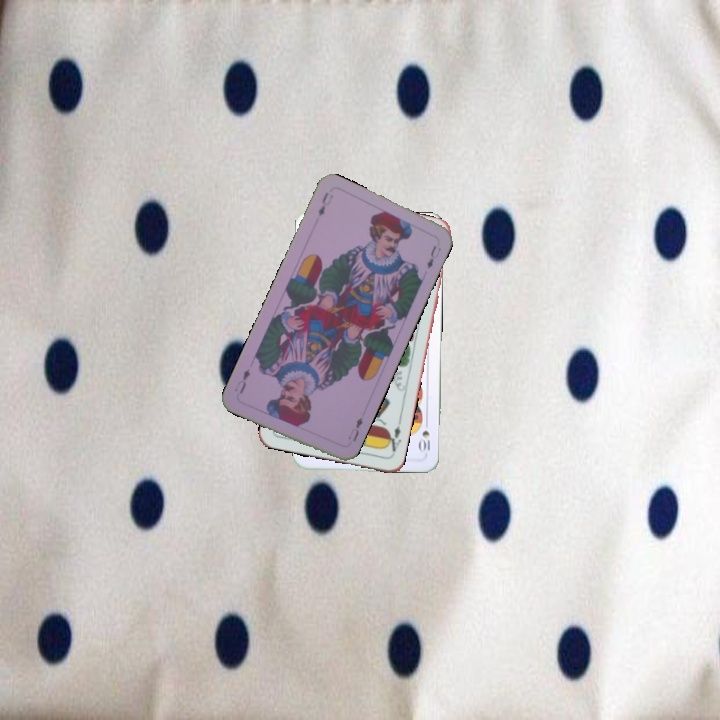EA: (382, 417, 404, 458)
EU: (344, 413, 366, 444), (314, 188, 336, 219)
S10: (416, 426, 432, 456)
